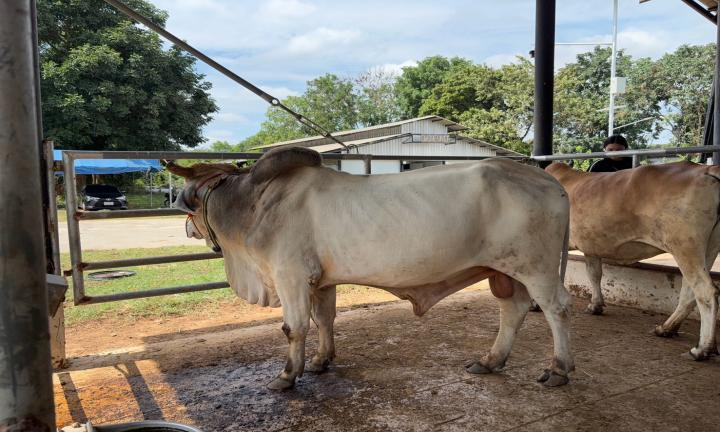Brahman: (170, 146, 574, 389)
